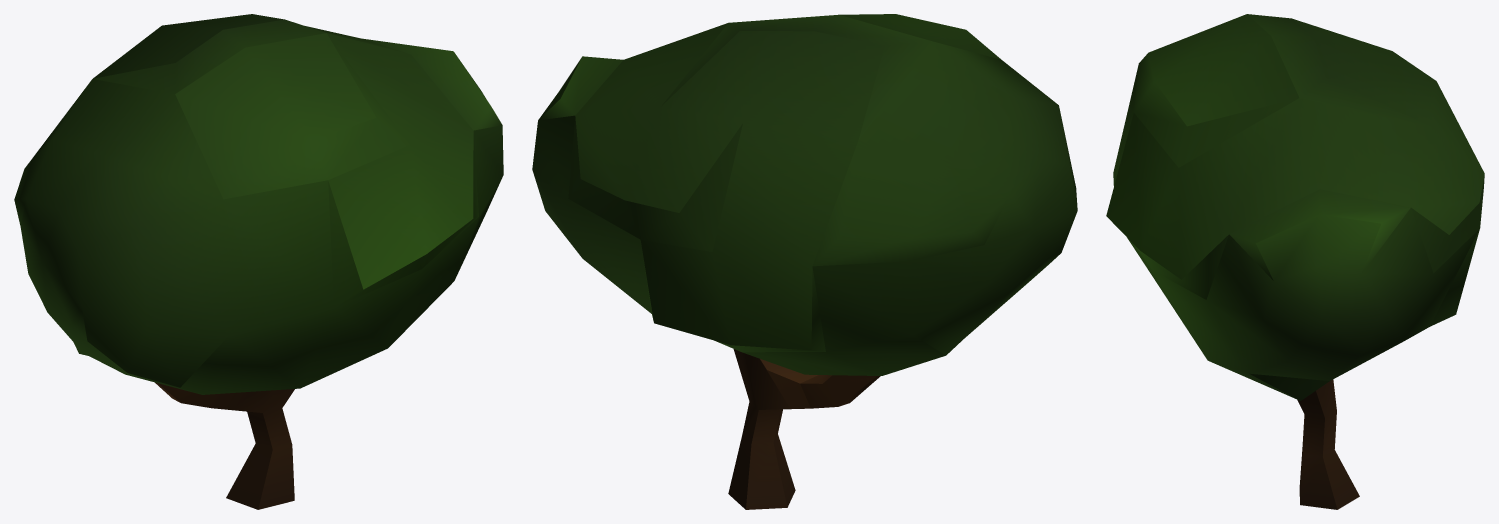
The model's file is Bush_1.fbx.
3 views of the same model, side by side, from view 1: azimuth 30°, elevation 25°; view 2: azimuth 150°, elevation 25°; view 3: azimuth 270°, elevation 25° (orthographic). The views are drawn at different scales.
Visible parts, largest first — view 1: Bush_type1; view 2: Bush_type1; view 3: Bush_type1.
Part boxes in pixels (box(x1,y1,x2,y2)): Bush_type1: box(14, 14, 503, 509); Bush_type1: box(532, 14, 1077, 509); Bush_type1: box(1106, 14, 1484, 509).
Size of the model in its own units: 197 by 193 by 150.
